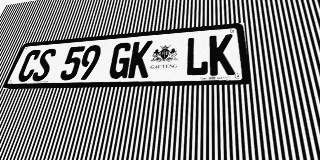5: (59, 46, 86, 80)
9: (76, 44, 103, 80)
C: (15, 49, 43, 82)
G: (107, 42, 133, 79)
K: (209, 34, 235, 76), (127, 40, 153, 78)
L: (185, 36, 209, 76)
S: (30, 48, 58, 81)
